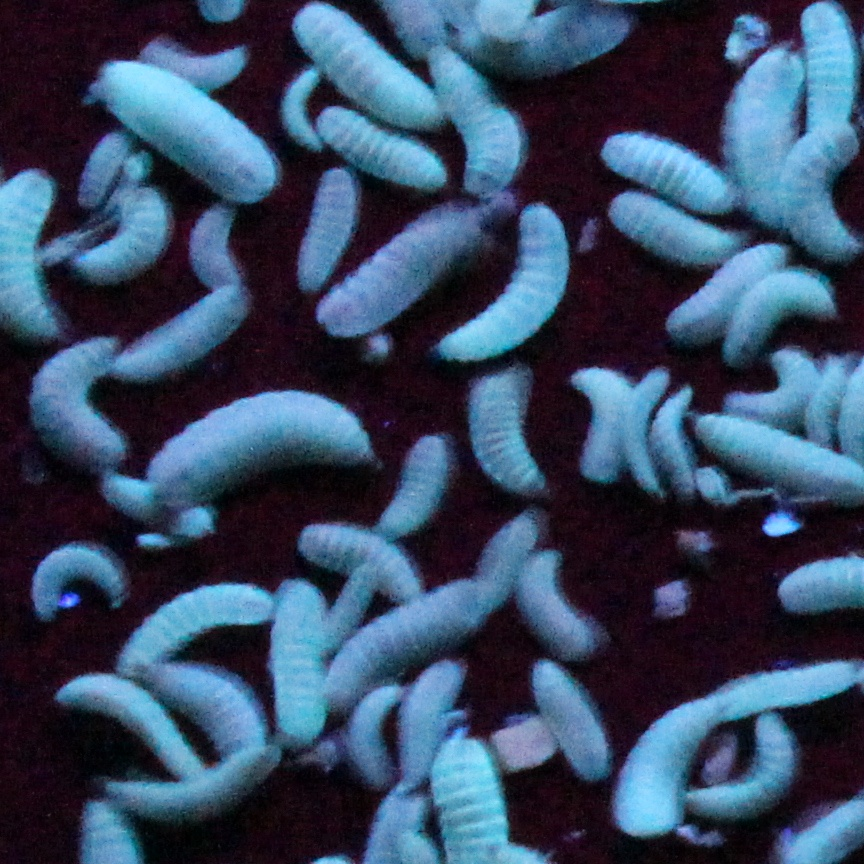larve: (149, 389, 370, 509), (98, 59, 278, 203), (314, 202, 491, 341), (434, 201, 569, 361), (323, 580, 489, 697), (53, 671, 206, 782), (104, 737, 282, 828), (426, 47, 525, 198), (28, 330, 128, 476), (118, 583, 274, 674), (613, 691, 710, 836), (111, 283, 249, 380), (600, 131, 744, 223), (722, 46, 810, 192), (608, 186, 760, 270), (683, 714, 795, 822), (665, 248, 789, 343), (145, 663, 264, 760), (471, 367, 555, 493), (299, 522, 426, 602), (704, 658, 856, 724), (320, 113, 448, 189), (76, 187, 171, 289), (790, 2, 860, 140), (534, 657, 609, 783), (519, 552, 599, 660), (723, 347, 820, 436), (572, 359, 635, 486), (33, 538, 126, 624), (374, 432, 443, 544), (98, 471, 213, 537), (300, 168, 359, 294), (136, 27, 248, 93), (308, 559, 375, 661), (474, 517, 538, 613), (646, 388, 696, 502), (620, 373, 664, 500), (190, 196, 243, 294), (353, 686, 401, 789), (81, 119, 136, 206), (280, 66, 326, 151)
